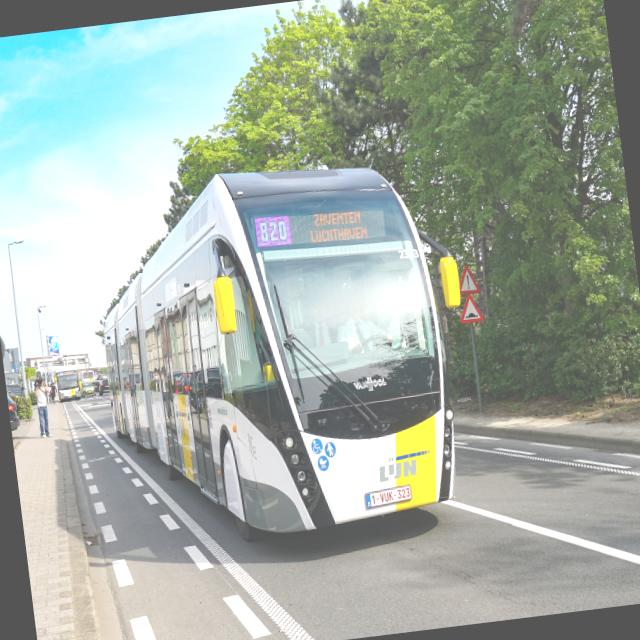bus-number: (252, 212, 294, 248)
